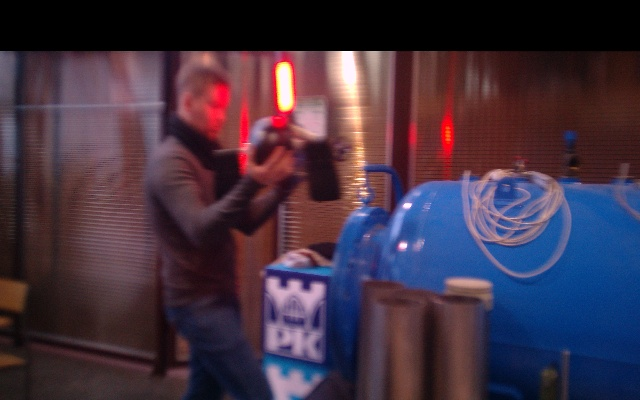red: (275, 60, 295, 112)
